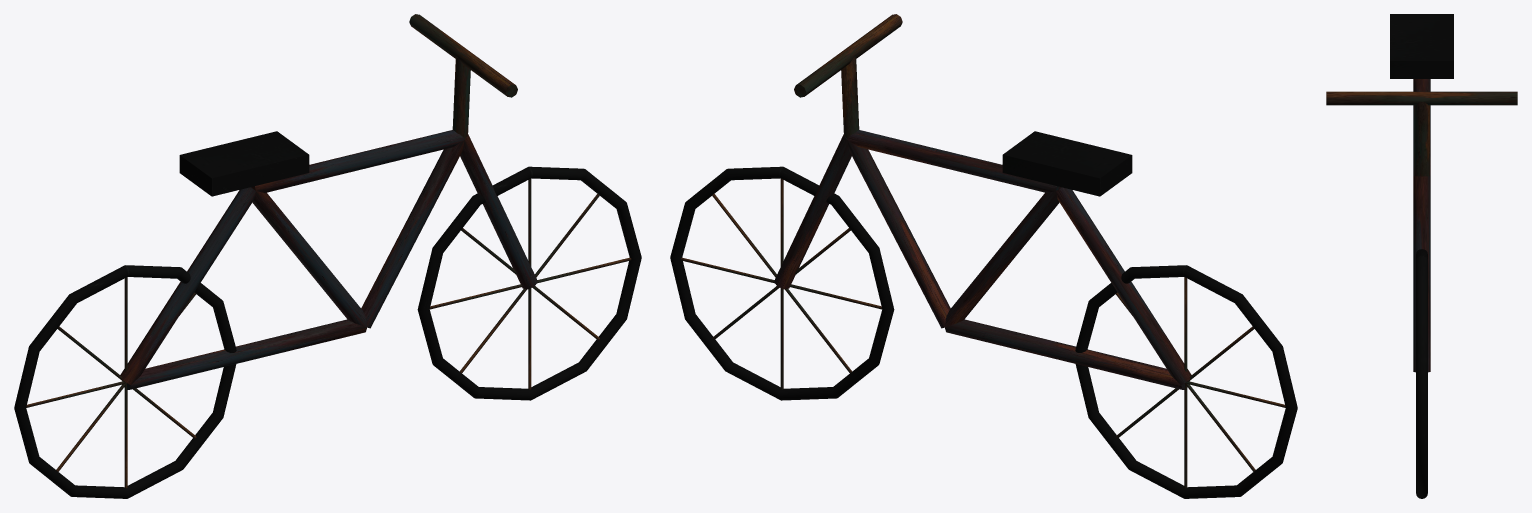
The model's file is loose_bike.glb.
3 views of the same model, side by side, from view 1: azimuth 30°, elevation 25°; view 2: azimuth 150°, elevation 25°; view 3: azimuth 270°, elevation 25° (orthographic).
Parts seen in each view (by area): view 1: LooseWheelFront, LooseWheelRear, TornSaddle, _MeshInstance3D_39797, _MeshInstance3D_39799, _MeshInstance3D_39801, _MeshInstance3D_39800, _MeshInstance3D_39798, _MeshInstance3D_39802, _MeshInstance3D_39804, _MeshInstance3D_39803; view 2: LooseWheelFront, LooseWheelRear, TornSaddle, _MeshInstance3D_39797, _MeshInstance3D_39799, _MeshInstance3D_39801, _MeshInstance3D_39800, _MeshInstance3D_39798, _MeshInstance3D_39802, _MeshInstance3D_39804, _MeshInstance3D_39803; view 3: TornSaddle, LooseWheelFront, _MeshInstance3D_39804, _MeshInstance3D_39802, _MeshInstance3D_39803, _MeshInstance3D_39800.
Part boxes in pixels (x1,y1,x2,y2): LooseWheelFront: [417, 166, 641, 400]; LooseWheelRear: [14, 265, 236, 498]; TornSaddle: [179, 131, 309, 196]; _MeshInstance3D_39797: [120, 187, 255, 384]; _MeshInstance3D_39799: [124, 319, 366, 389]; _MeshInstance3D_39801: [361, 140, 464, 328]; _MeshInstance3D_39800: [251, 130, 464, 192]; _MeshInstance3D_39798: [252, 191, 366, 327]; _MeshInstance3D_39802: [460, 134, 537, 289]; _MeshInstance3D_39804: [409, 14, 517, 97]; _MeshInstance3D_39803: [452, 56, 470, 138]; LooseWheelFront: [670, 166, 894, 400]; LooseWheelRear: [1075, 265, 1297, 498]; TornSaddle: [1002, 131, 1132, 196]; _MeshInstance3D_39797: [1056, 187, 1191, 384]; _MeshInstance3D_39799: [945, 319, 1187, 389]; _MeshInstance3D_39801: [847, 140, 950, 328]; _MeshInstance3D_39800: [847, 130, 1060, 192]; _MeshInstance3D_39798: [945, 191, 1059, 327]; _MeshInstance3D_39802: [774, 134, 851, 289]; _MeshInstance3D_39804: [794, 14, 902, 97]; _MeshInstance3D_39803: [841, 56, 859, 138]; TornSaddle: [1390, 14, 1453, 78]; LooseWheelFront: [1416, 249, 1427, 498]; _MeshInstance3D_39804: [1326, 91, 1517, 105]; _MeshInstance3D_39802: [1413, 176, 1430, 372]; _MeshInstance3D_39803: [1414, 101, 1429, 176]; _MeshInstance3D_39800: [1413, 79, 1430, 175].
Bounding box in the file's own units: 1.8 × 1.01 × 0.48.
Materials: 5 (5 with a texture image).
